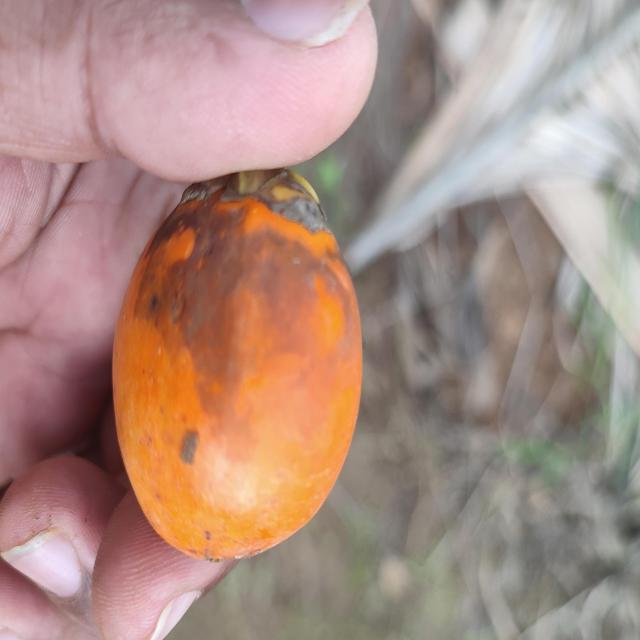Healthy_Nut: (77, 131, 448, 588)
